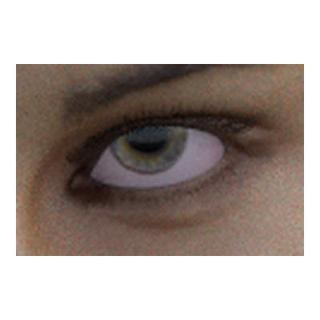pupil: (127, 111, 168, 153)
